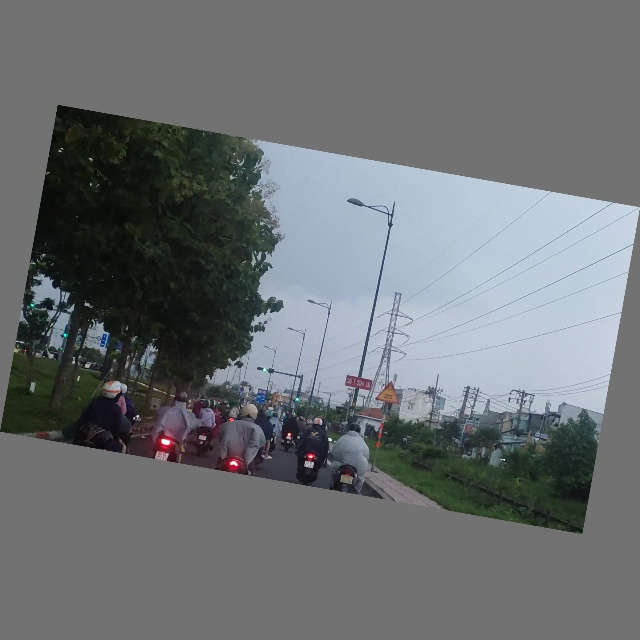W.210: (375, 381, 403, 406)
